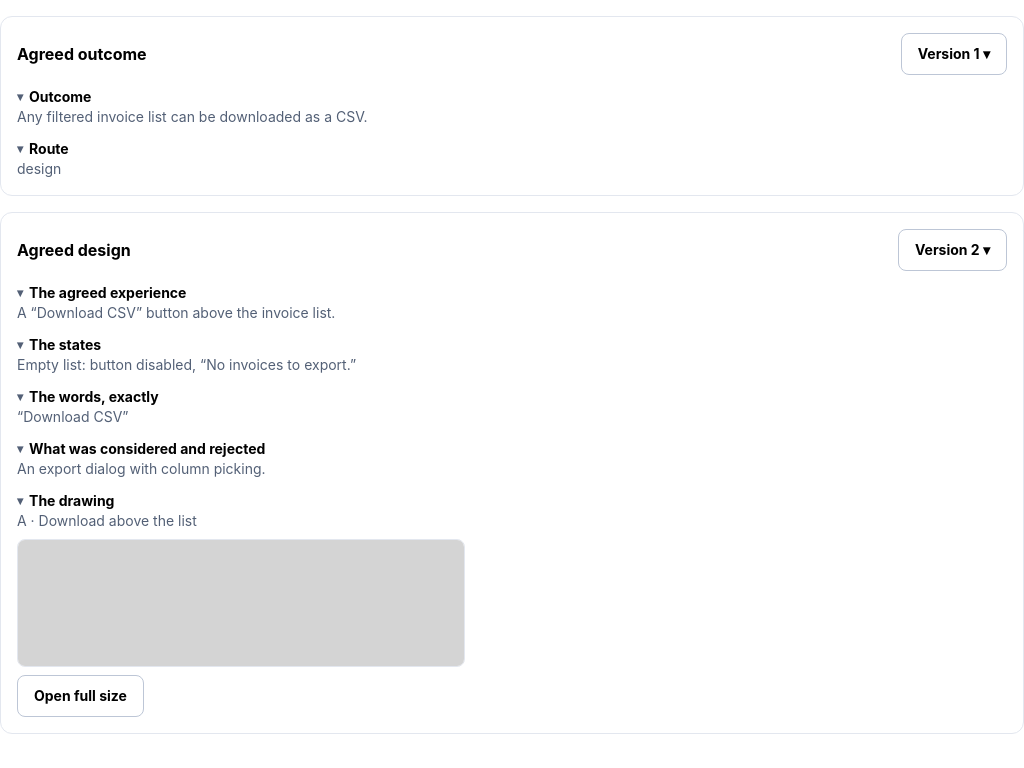
Escape closes the version menu and returns focus to its button
Click the button "Version 2 ▾" at (952, 250), box left=898, top=229, right=1007, bottom=271
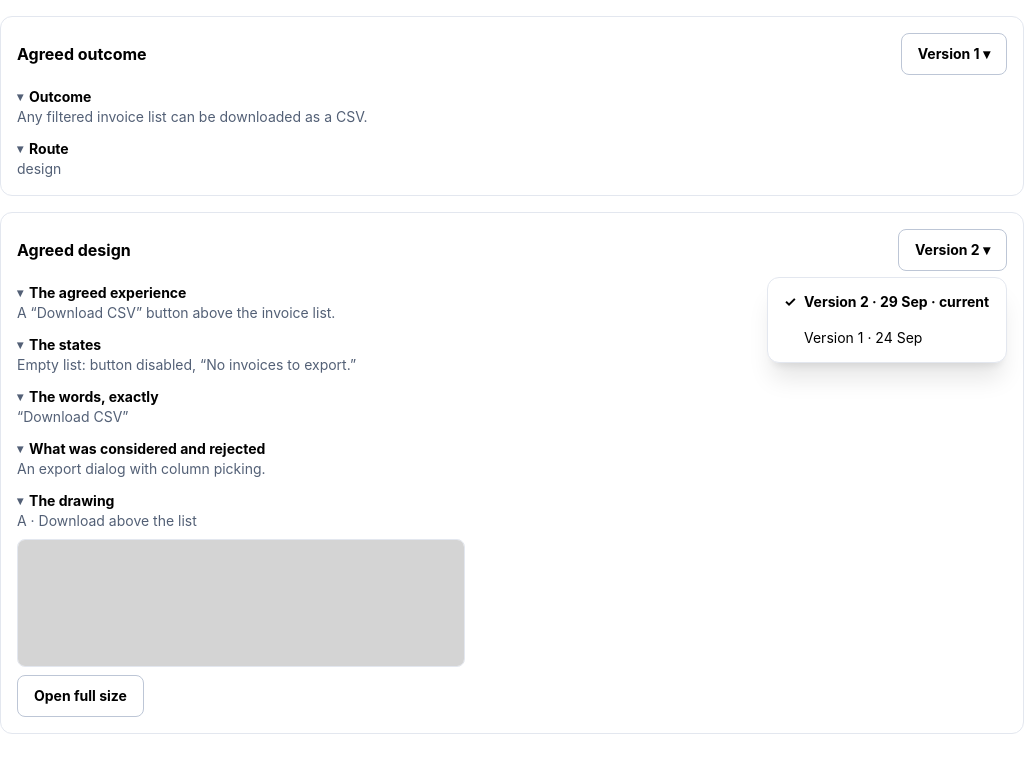
Result: the menu is shown at left=767, top=277, right=1007, bottom=363
Press Escape
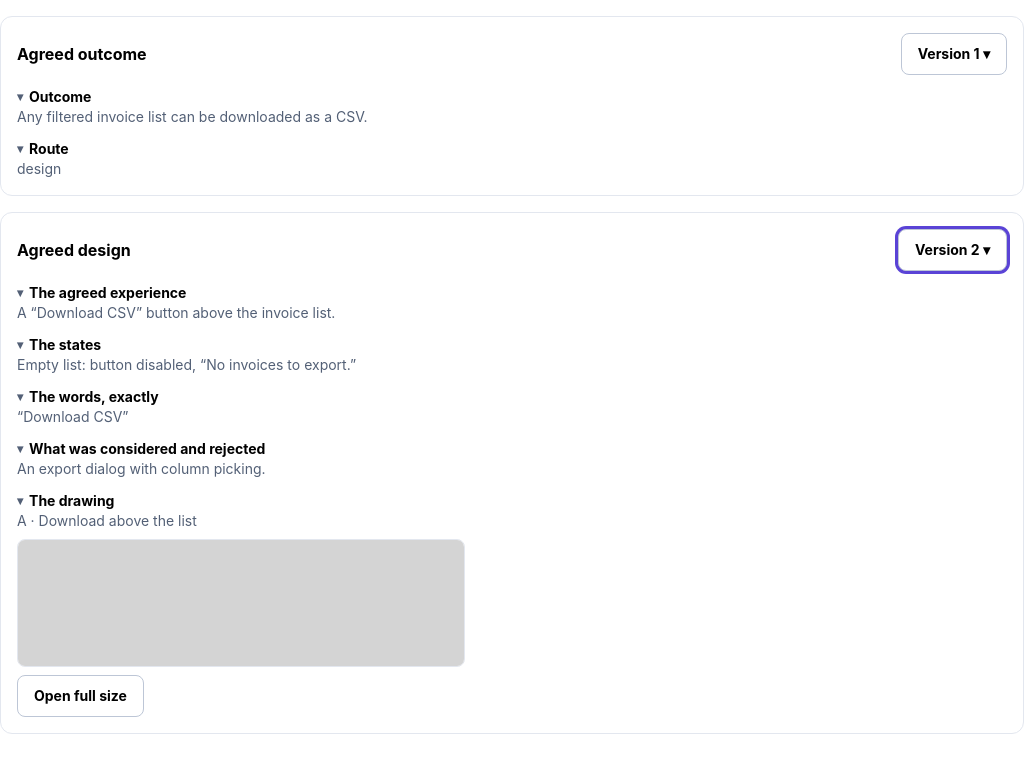
Result: the menu is gone
